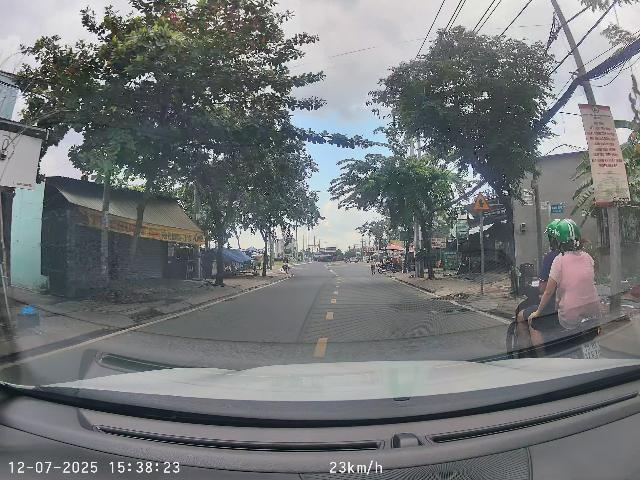207-giao-nhau-voi-duong-khong-uu-tien: (472, 191, 491, 211)
